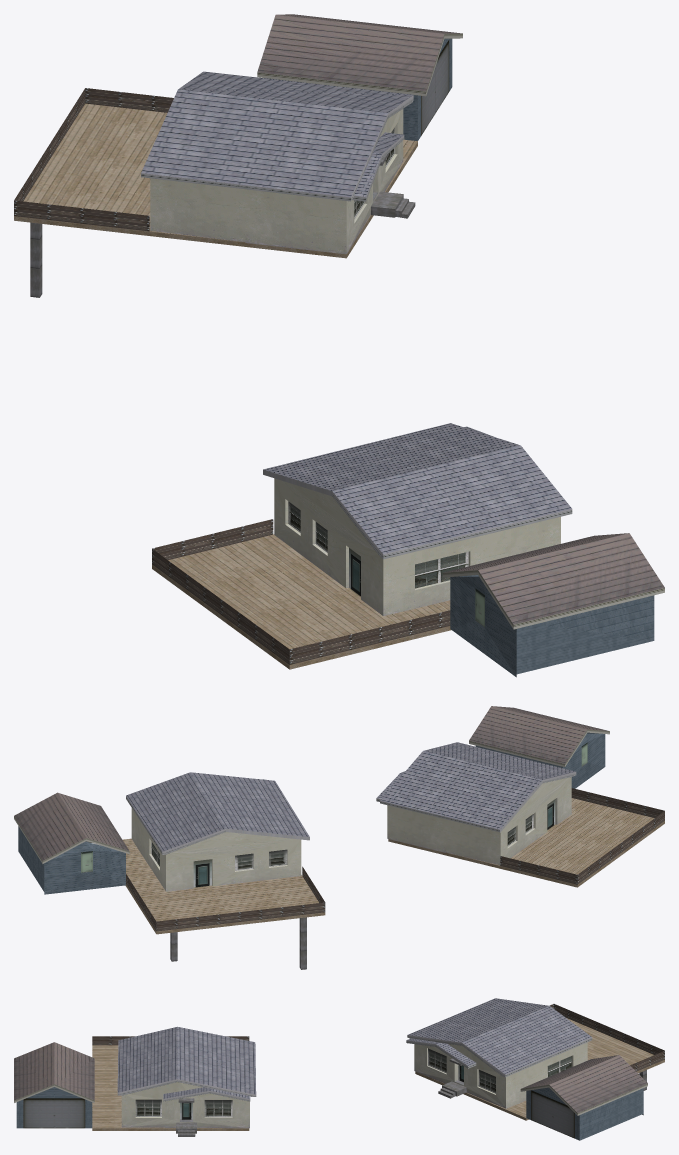
Rendered from mulhouse03_cunte.obj.
3 renders of one model, top to bottom at view 1: azimuth 30°, elevation 25°; view 2: azimuth 150°, elevation 25°; view 3: azimuth 270°, elevation 25°, orthographic. The views are drawn at different scales.
Visible parts, largest first — view 1: mulhouse03_cunte; view 2: mulhouse03_cunte; view 3: mulhouse03_cunte.
Boxes of the visible parts, x1=… form: mulhouse03_cunte: x1=14, y1=14, x2=664, y2=677; mulhouse03_cunte: x1=14, y1=706, x2=664, y2=969; mulhouse03_cunte: x1=14, y1=998, x2=664, y2=1140.
Size of the model in its own units: 40.18 by 13.8 by 66.36.
